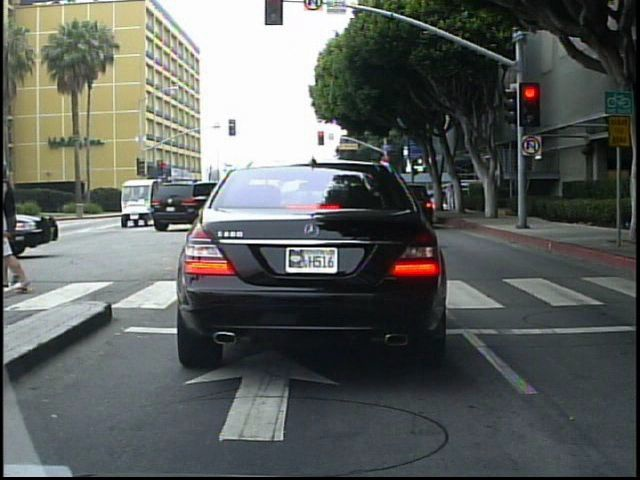person: (443, 180, 456, 210)
